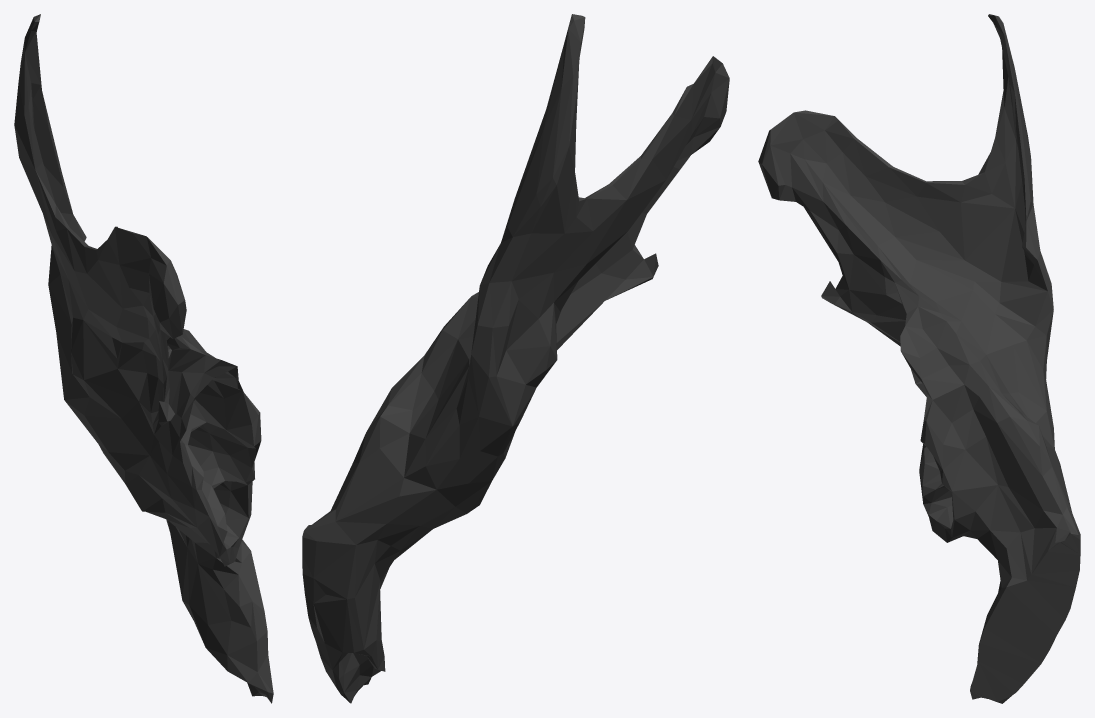
File: chin_skull_L_020_1.glb
The picture shows the model from 3 angles, left to right: view 1: azimuth 30°, elevation 25°; view 2: azimuth 150°, elevation 25°; view 3: azimuth 270°, elevation 25°; orthographic projection. The views are drawn at different scales.
Visible parts, largest first — view 1: chin_skull_L_020_1; view 2: chin_skull_L_020_1; view 3: chin_skull_L_020_1.
Part boxes in pixels (bbox=[...]): chin_skull_L_020_1: bbox=[14, 14, 273, 703]; chin_skull_L_020_1: bbox=[302, 14, 729, 703]; chin_skull_L_020_1: bbox=[758, 14, 1080, 703].
Bounding box in the file's own units: 0.5834 × 1.7 × 0.8259.
1 material, 1 textured.
